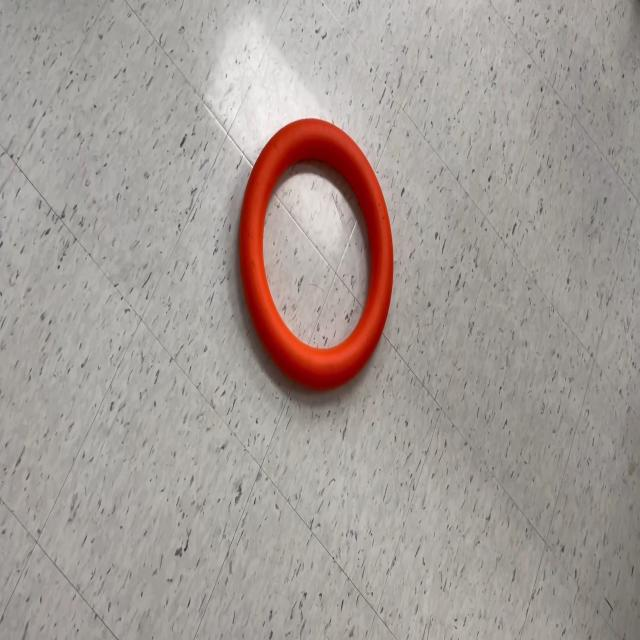note: (236, 115, 394, 394)
